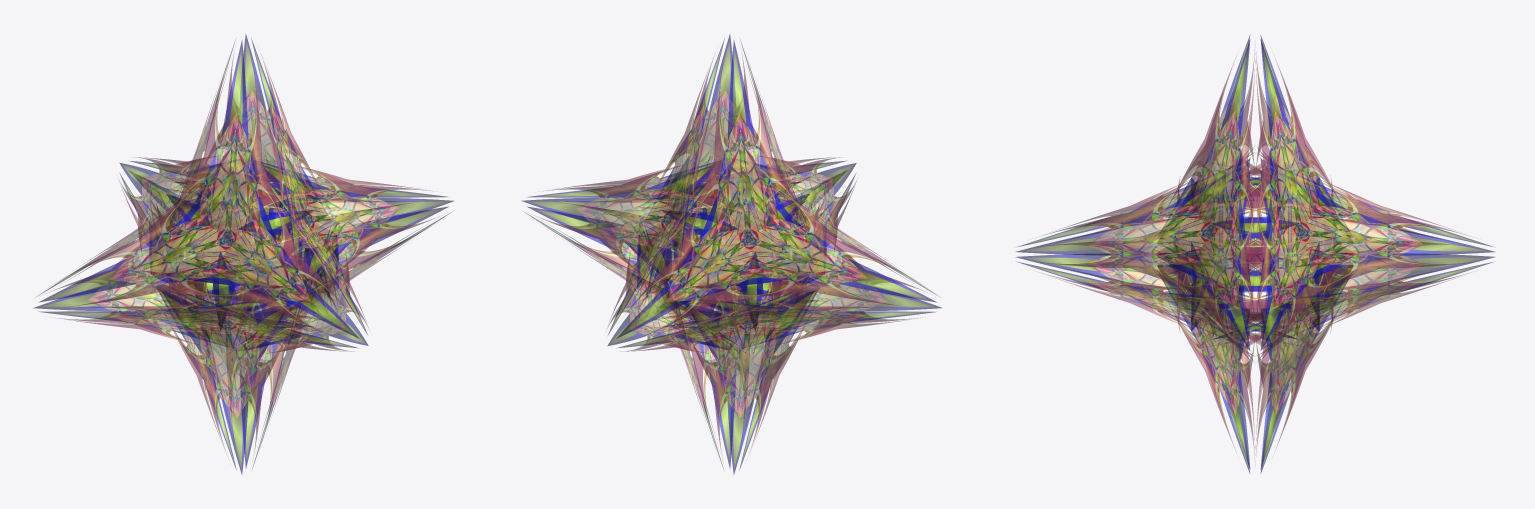
File: 1GreatHexacronicIcositetrahedron.gltf
The picture shows the model from 3 angles, left to right: view 1: azimuth 30°, elevation 25°; view 2: azimuth 150°, elevation 25°; view 3: azimuth 270°, elevation 25°; orthographic projection.
Visible parts, largest first — view 1: GreatHexacronicIcositetrahedron9; view 2: GreatHexacronicIcositetrahedron9; view 3: GreatHexacronicIcositetrahedron9.
Boxes of the visible parts, x1,y1,x2,y2 form: GreatHexacronicIcositetrahedron9: (34, 34, 453, 474); GreatHexacronicIcositetrahedron9: (522, 34, 941, 474); GreatHexacronicIcositetrahedron9: (1016, 35, 1494, 473).
Bounding box in the file's own units: 2.83 × 2.83 × 2.83.
Materials: 1 (1 with a texture image).
